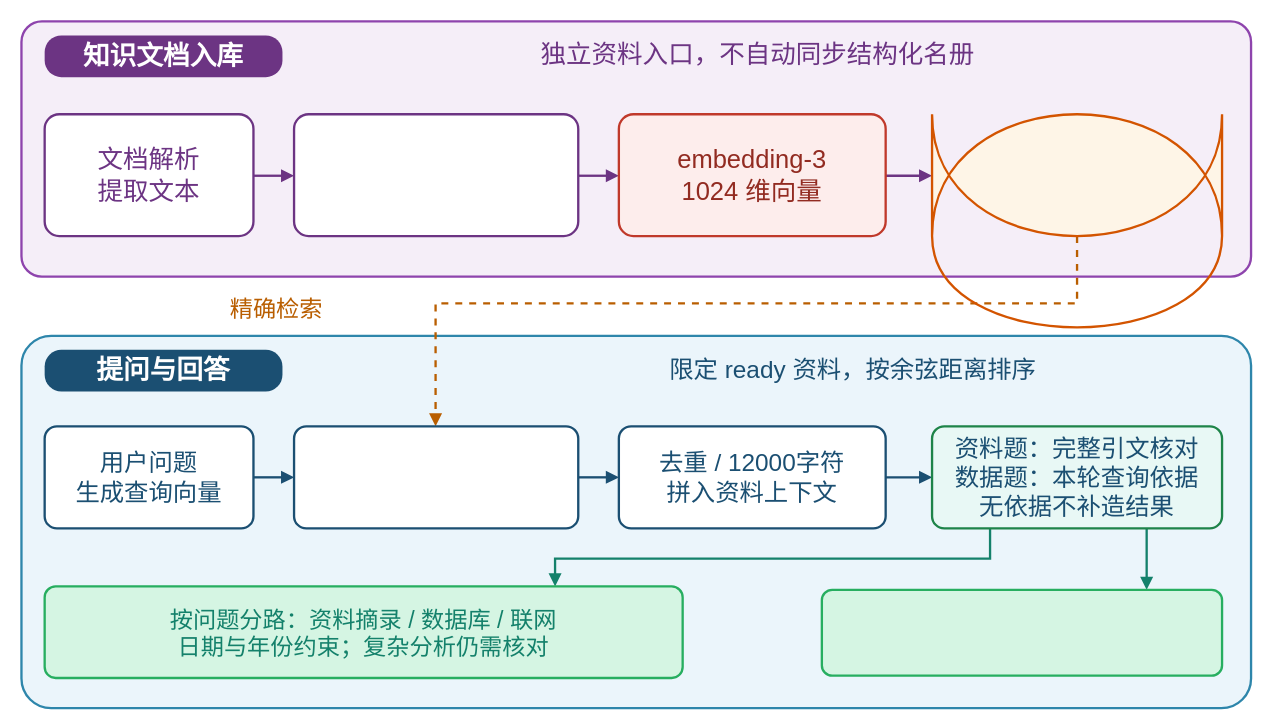
Some shapes in this 1271 by 728 pixel diagram are drawn without their labels. The box of each missing label's shape, as (x1, y1, x2, y2) in pixels:
knowledge_chunks 文本块与向量: (930, 113, 1223, 237)
SSE 过程状态 最终完整答案一次发送: (820, 588, 1223, 676)
初检前3个文本块 补同资料前后邻块: (292, 425, 579, 529)
字符分块 500 字符 / 重叠 50: (292, 113, 579, 237)
